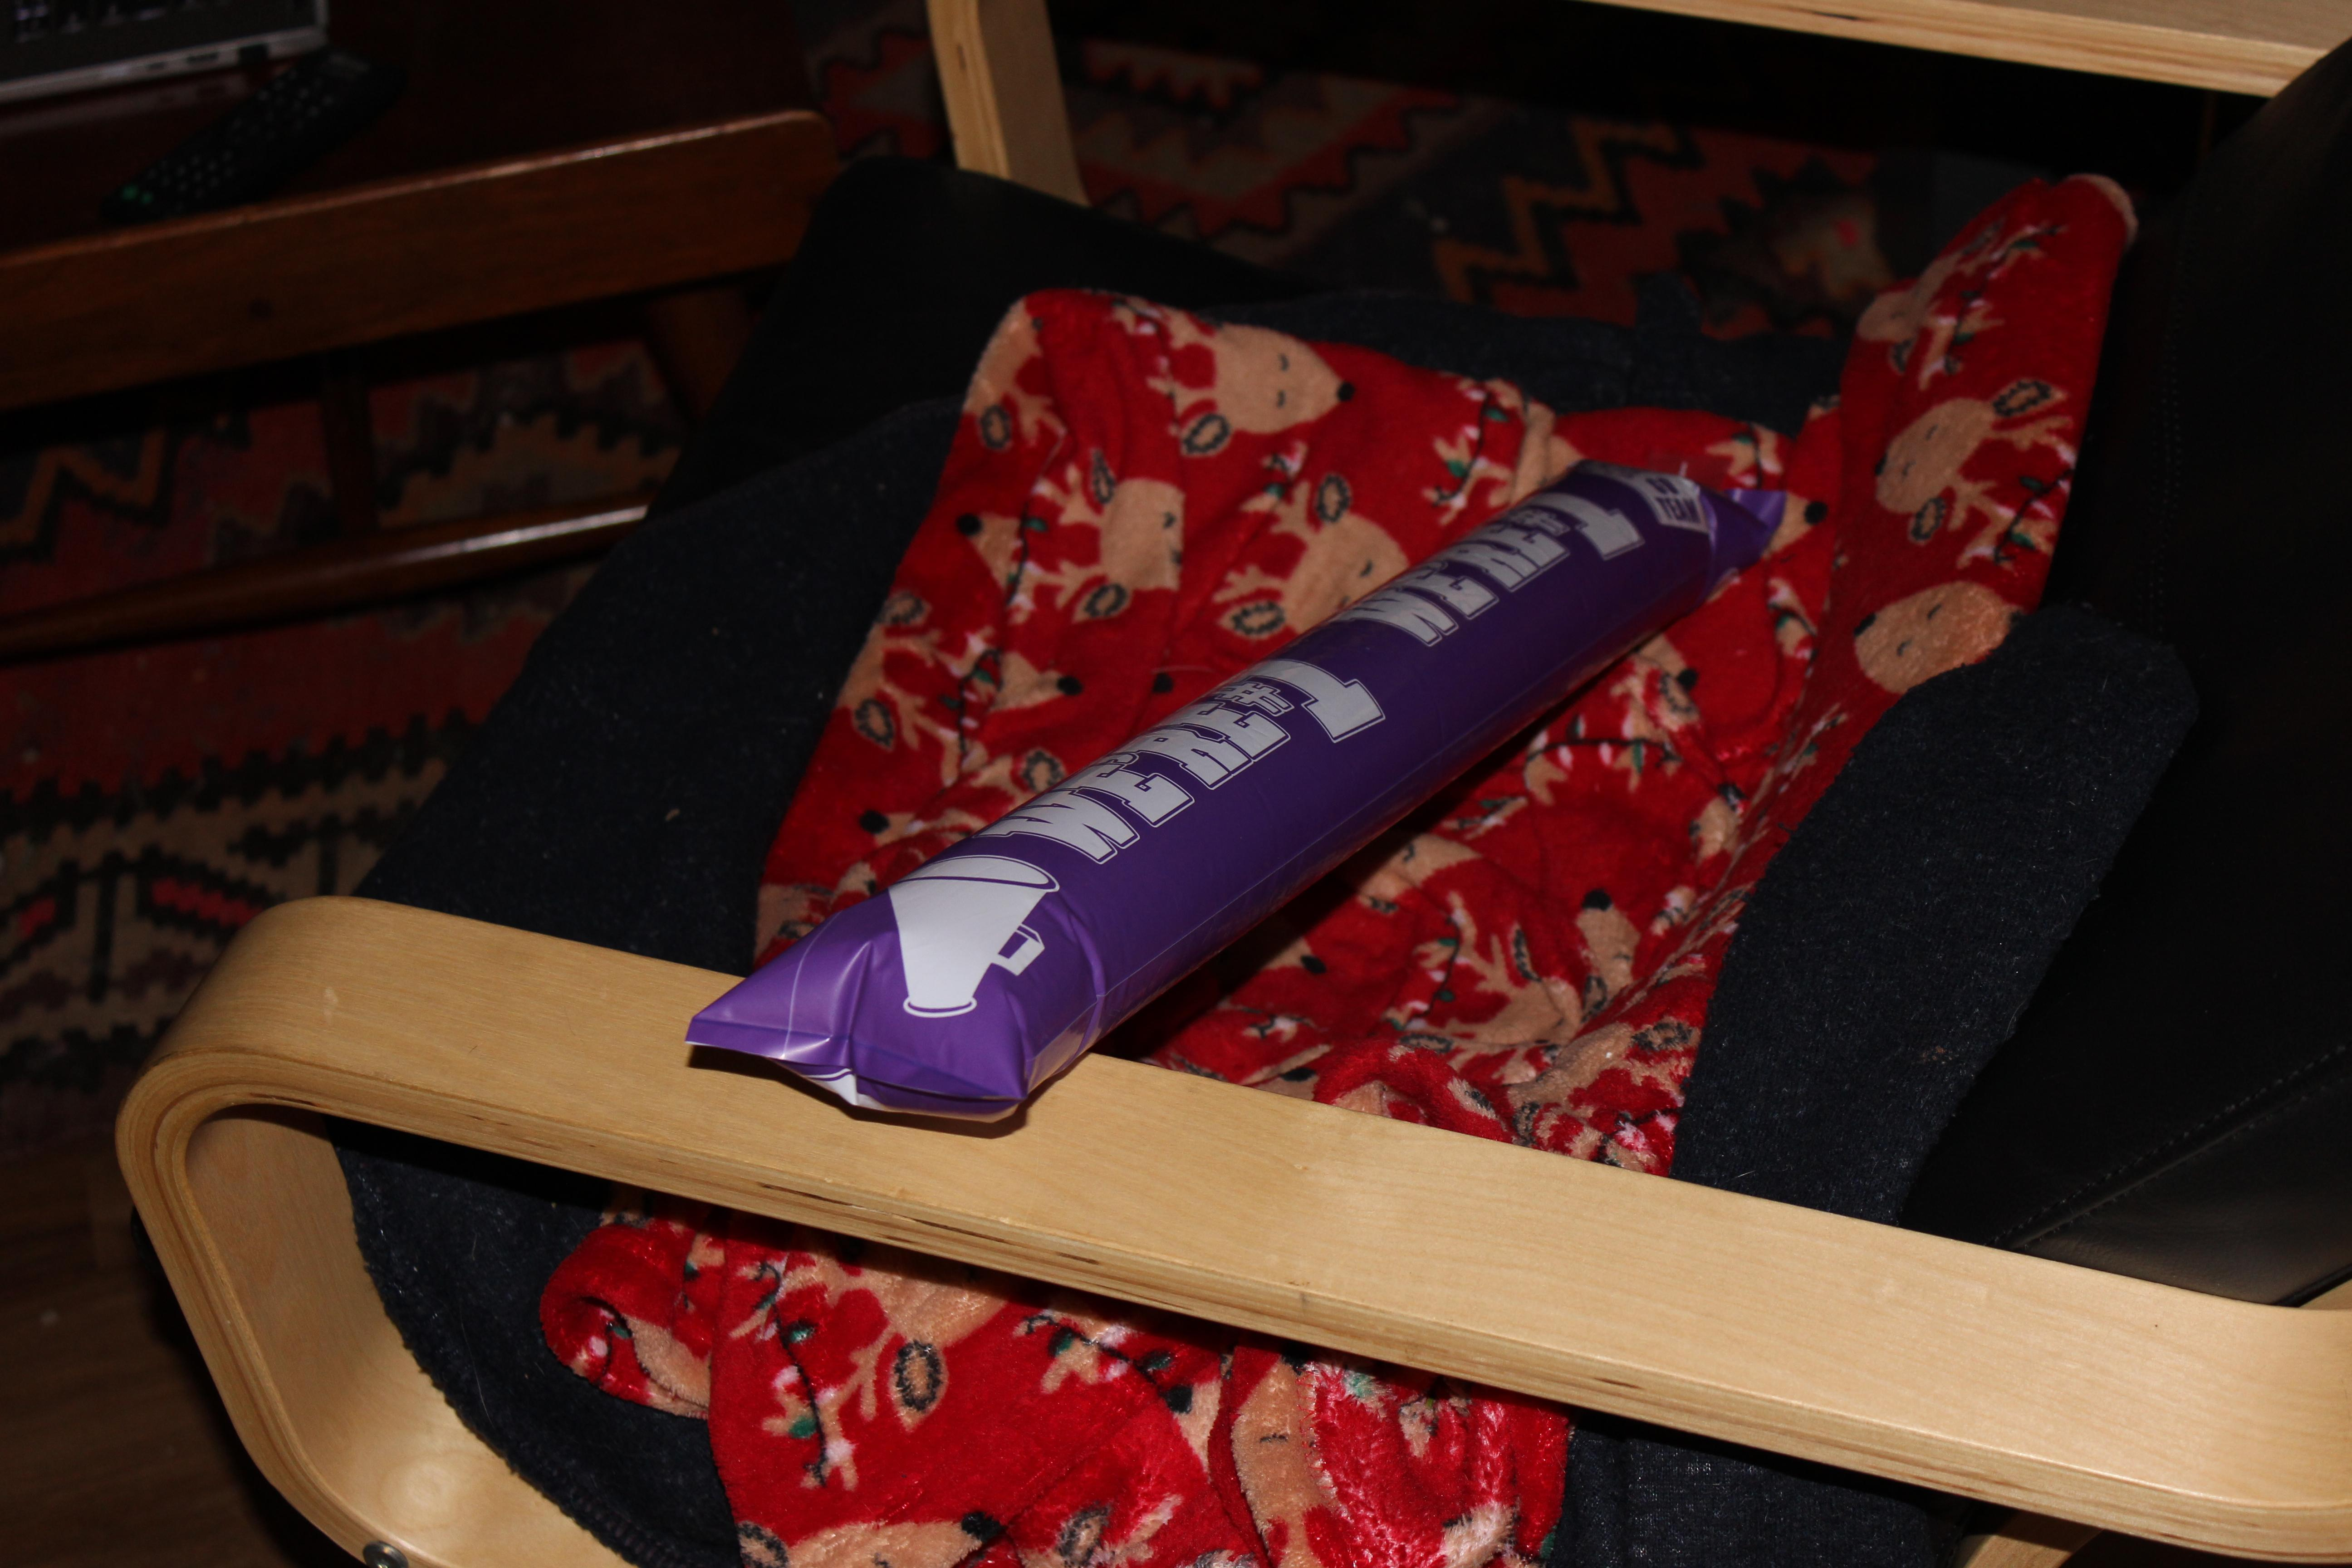noisemaker: (672, 422, 1813, 1171)
